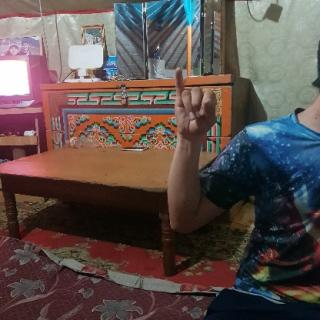MEEM: (172, 65, 220, 142)
